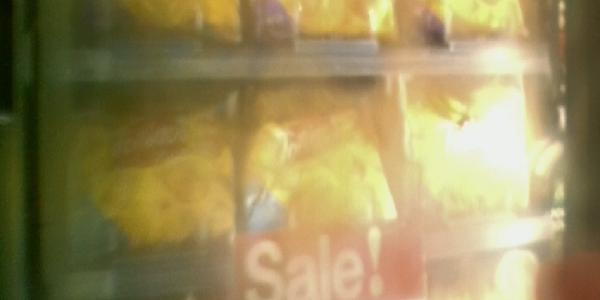icecream: (46, 98, 244, 265), (246, 80, 400, 254), (400, 73, 541, 251)
